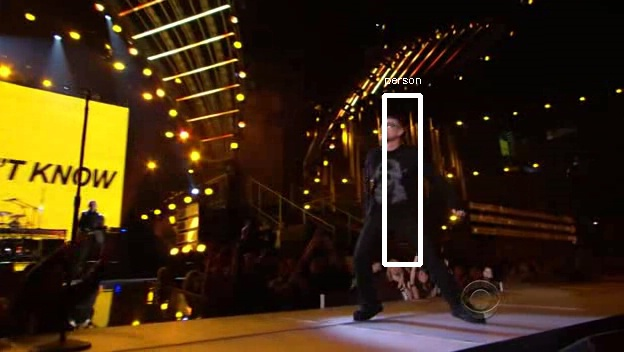person: (360, 116, 429, 233), (357, 116, 426, 233), (363, 116, 432, 233), (360, 113, 429, 230), (360, 119, 429, 236)
target_negative: (227, 63, 476, 341), (77, 33, 331, 264), (228, 117, 335, 214), (211, 280, 365, 294), (43, 318, 69, 341), (245, 309, 249, 344)
